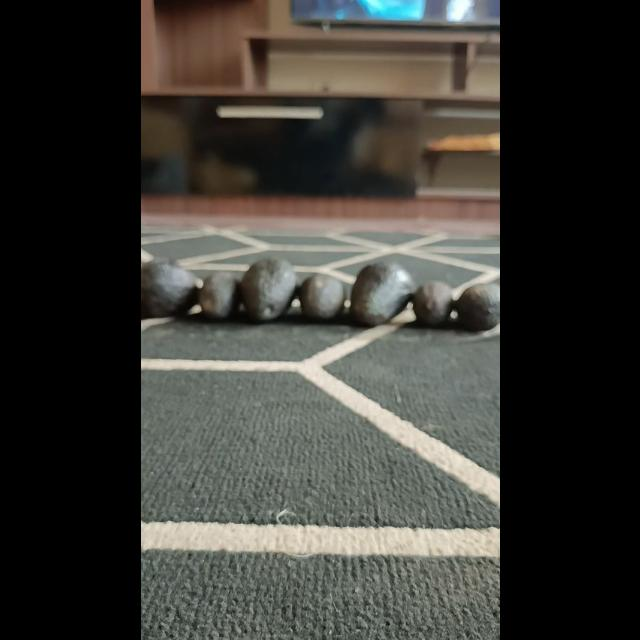Primera: (349, 260, 415, 326), (239, 255, 295, 322), (140, 260, 198, 318)
Segunda: (298, 273, 344, 321), (453, 282, 497, 331), (198, 270, 240, 320)
Tercera: (411, 280, 453, 326)
